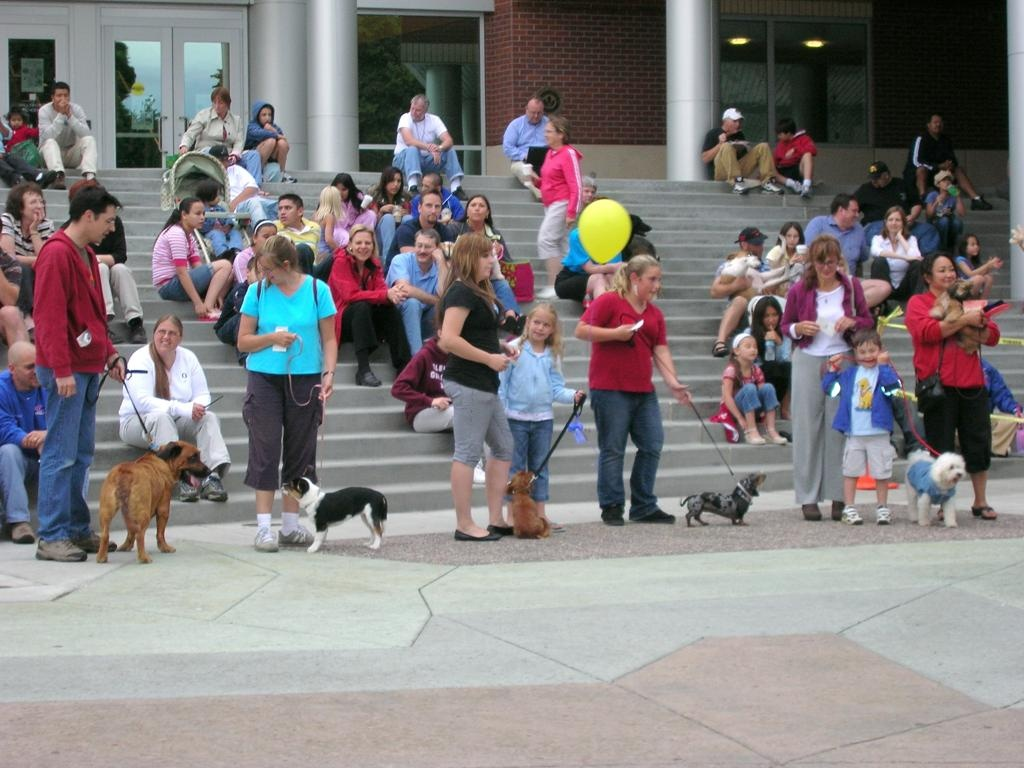human_face: (88, 212, 116, 242), (15, 357, 43, 387), (930, 258, 954, 288), (470, 248, 494, 278), (154, 324, 180, 350), (261, 256, 285, 284), (638, 270, 660, 300), (528, 314, 552, 340), (814, 252, 836, 278), (855, 341, 877, 367), (350, 233, 372, 259), (22, 192, 44, 218), (276, 200, 298, 224), (415, 236, 435, 260), (420, 196, 440, 219), (467, 198, 487, 220), (761, 306, 779, 330), (842, 201, 858, 226), (186, 205, 204, 227), (256, 228, 274, 250), (746, 237, 762, 259), (886, 212, 902, 230), (726, 114, 742, 132), (386, 174, 402, 192), (526, 104, 542, 122), (53, 90, 69, 108), (740, 339, 754, 359), (785, 227, 799, 247), (544, 124, 558, 144), (210, 95, 226, 112), (870, 168, 884, 186), (258, 106, 272, 124), (964, 237, 978, 254), (581, 184, 595, 201), (421, 180, 435, 196), (409, 104, 425, 118), (930, 115, 942, 131), (334, 183, 346, 199), (208, 188, 220, 204), (216, 156, 228, 172), (10, 114, 22, 126), (776, 130, 790, 140), (938, 175, 948, 187)
